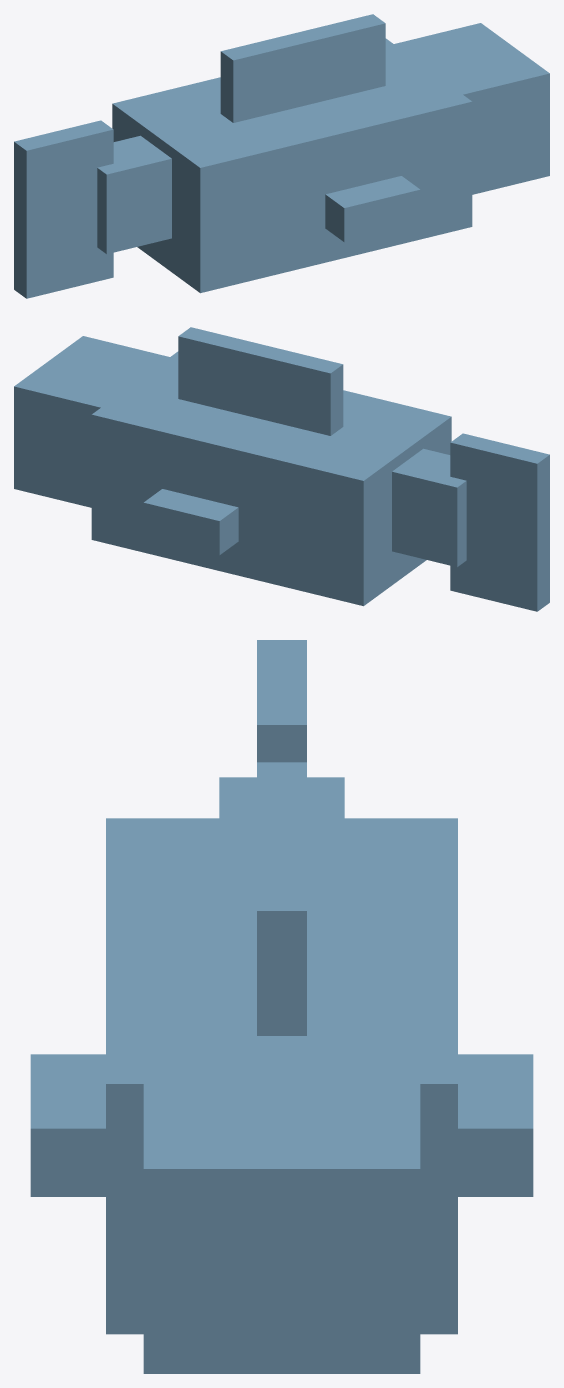
File: fish_arctic_cod.glb
3 renders of one model, top to bottom at view 1: azimuth 30°, elevation 25°; view 2: azimuth 150°, elevation 25°; view 3: azimuth 270°, elevation 25°, orthographic. The views are drawn at different scales.
Visible parts, largest first — view 1: species.arctic_cod; view 2: species.arctic_cod; view 3: species.arctic_cod.
Boxes of the visible parts, <box> form: species.arctic_cod: <box>14,14,549,298</box>; species.arctic_cod: <box>14,327,549,611</box>; species.arctic_cod: <box>30,640,533,1373</box>.
Bounding box in the file's own units: 0.3 × 0.1088 × 0.1319.
